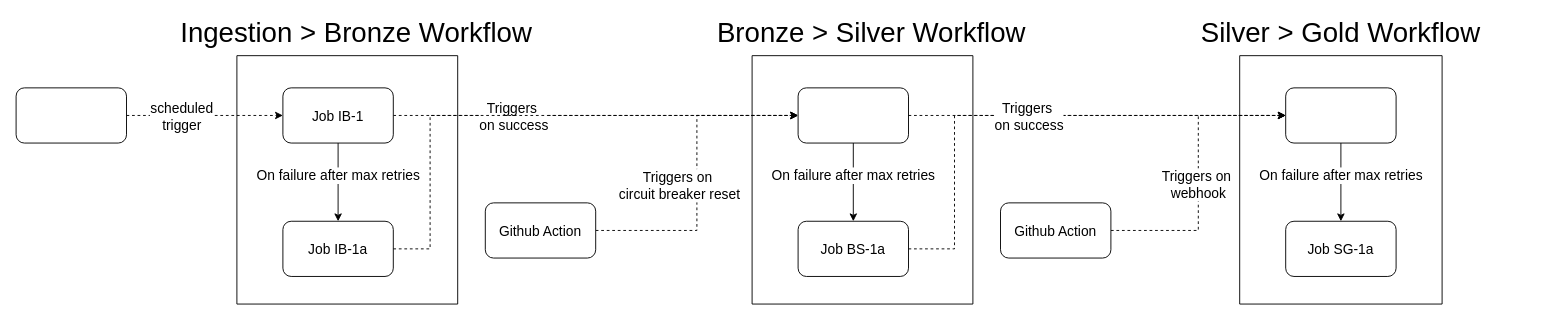
Some shapes in this 1559 by 320 pixel diagram are drawn without their labels. Each missing label, with the box of its shape:
Job BS-1: (797, 87, 908, 143)
Job SG-1: (1285, 87, 1396, 143)
Monthly Scheduler: (15, 87, 126, 143)
